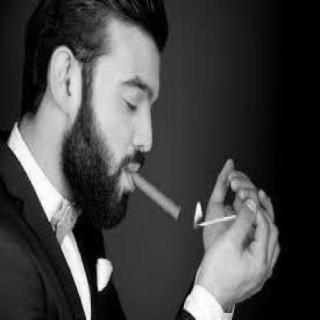Fire: (189, 194, 205, 232)
